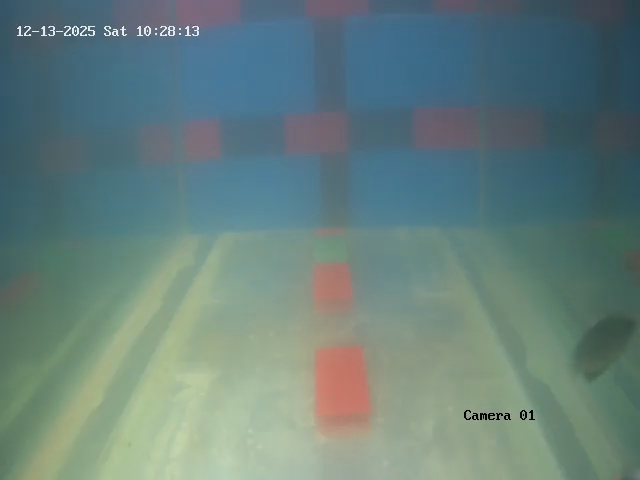fish: (571, 308, 632, 381)
